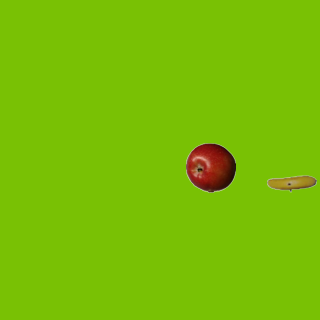Apple Braeburn: (185, 142, 235, 192)
Banana: (266, 158, 316, 208)
